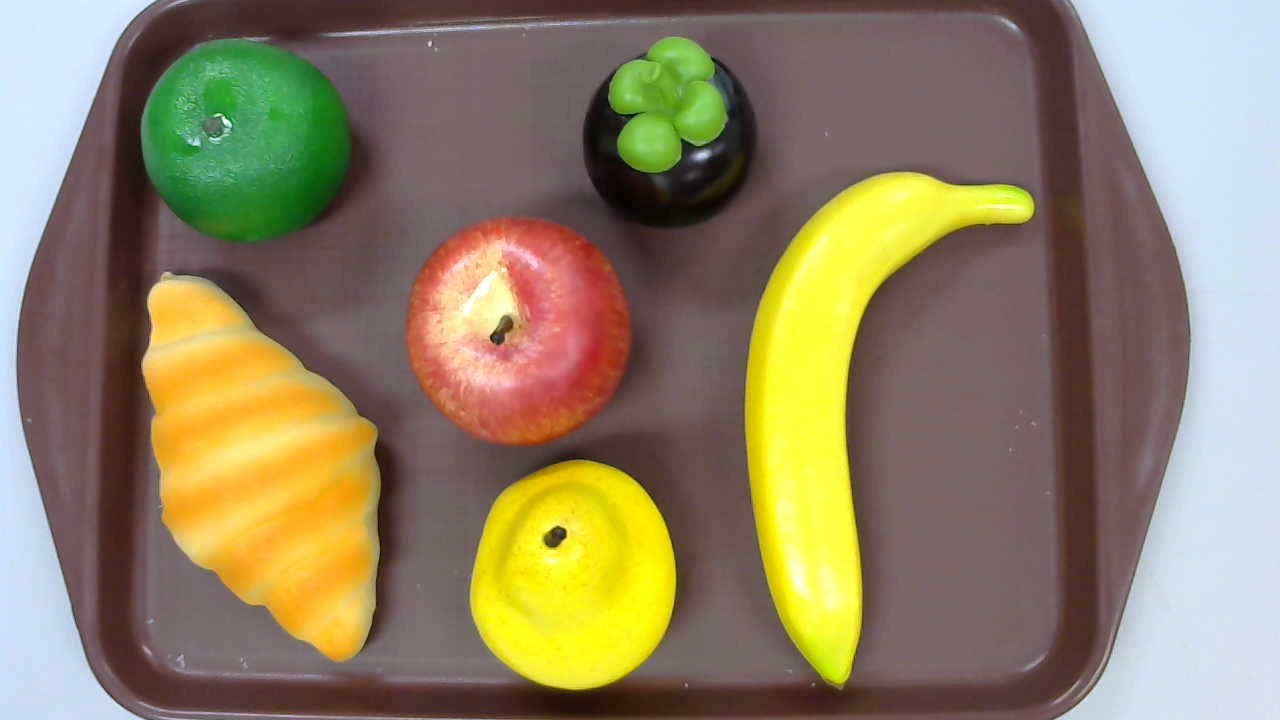banana: (744, 171, 1034, 693)
croissant: (141, 272, 382, 661)
green orange: (141, 38, 352, 241)
mangosteen: (581, 36, 757, 228)
red apple: (407, 216, 633, 448)
yellow pear: (468, 459, 677, 692)
